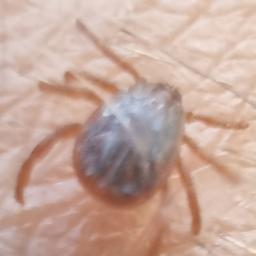Rhipicephalus sanguineus: (14, 16, 249, 237)
